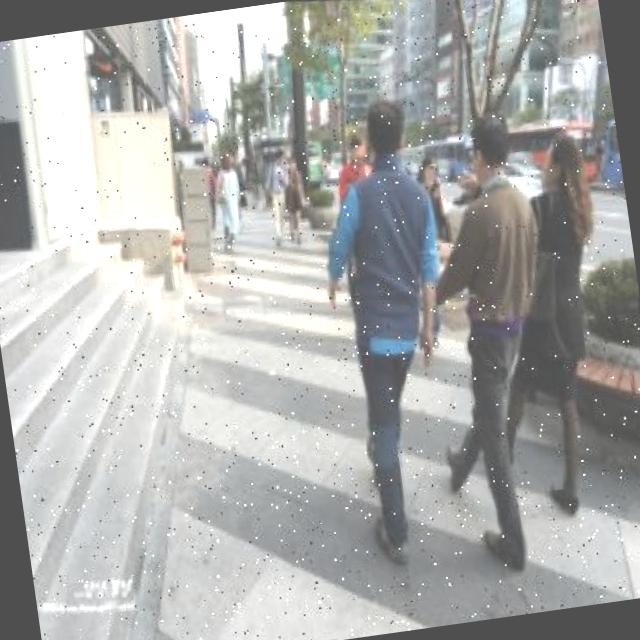Person: (272, 91, 494, 577), (383, 102, 598, 580), (460, 127, 638, 524), (205, 152, 252, 260), (256, 146, 302, 248)
